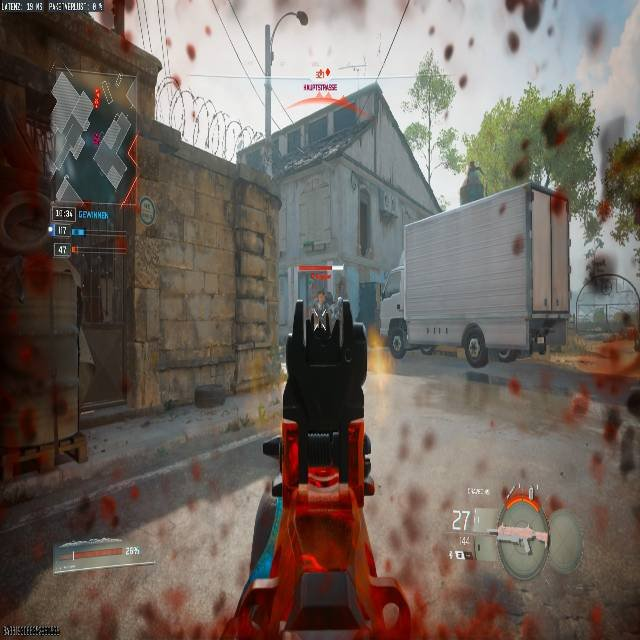player: (311, 288, 332, 335)
